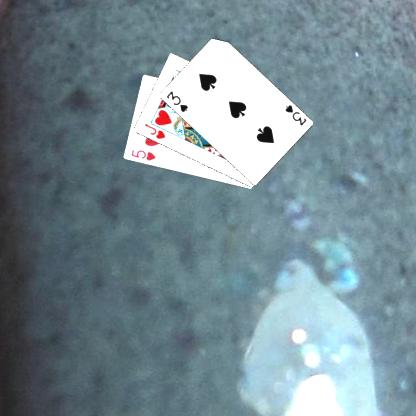3S: (164, 88, 190, 114), (282, 102, 307, 127)
5H: (128, 147, 157, 162)
JH: (142, 121, 166, 140)
